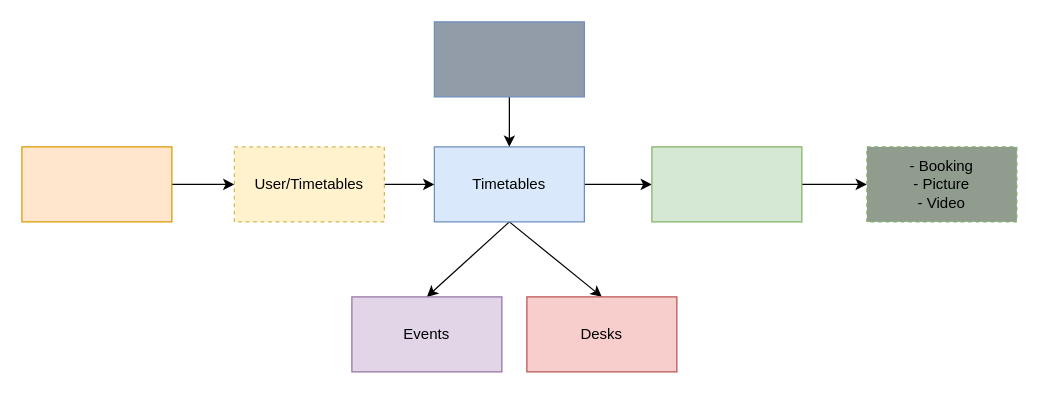
This 1039x394 diagram has some shape labels left out. The centre of each missing label's shape, as x and y in pixels:
Carousels: (726,184)
Timetable Groups: (508,59)
Users: (96,184)
